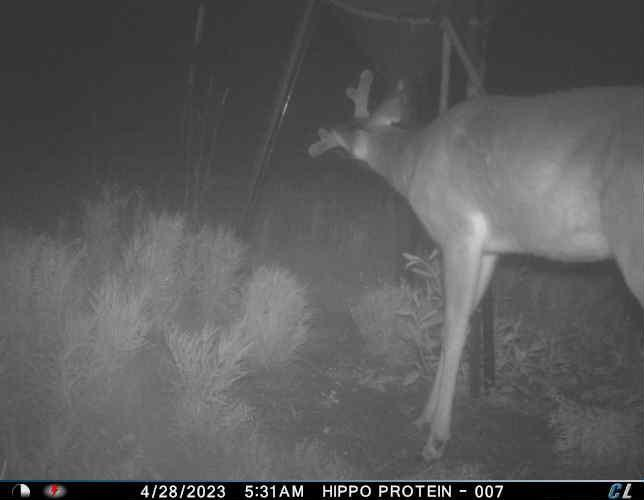Deer: (303, 67, 644, 464)
